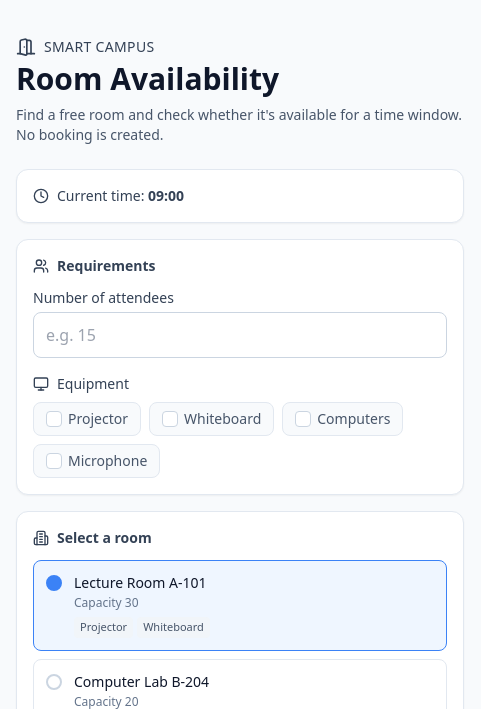
App — integration › selects a room, enters a valid time, and shows Available
The width and height of the screenshot is (481, 709).
Click the text "Computer Lab B-204": (142,681) [74, 672, 209, 690]
(page scrolled)
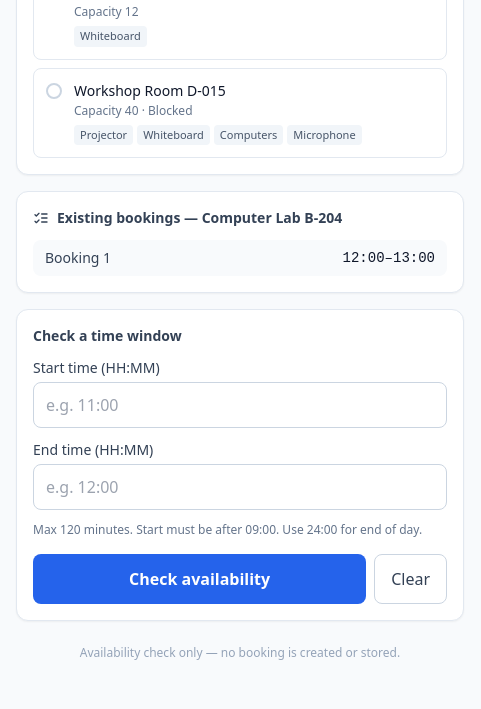
In the field labelled "Start time (HH:MM)": (240,405) [33, 382, 447, 428], type "11:00"
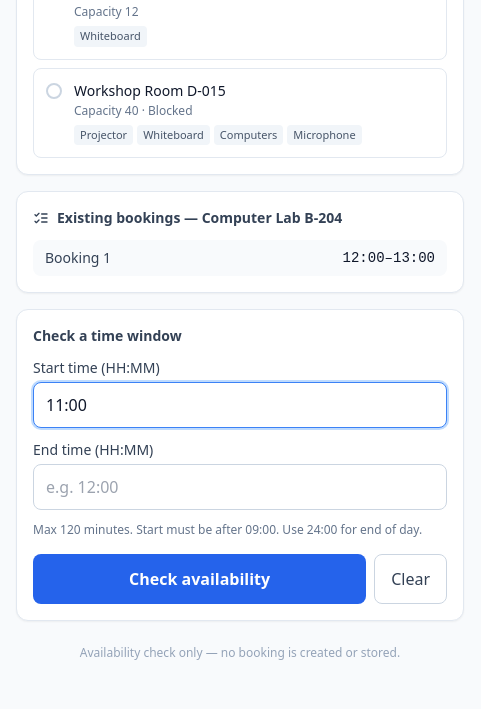
In the field labelled "End time (HH:MM)": (240,487) [33, 464, 447, 510], type "11:30"
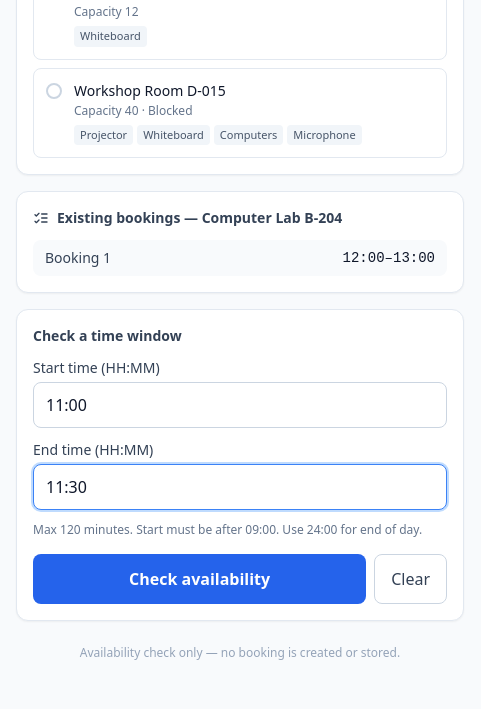
Click the button "Check availability": (200,579) [33, 554, 366, 604]
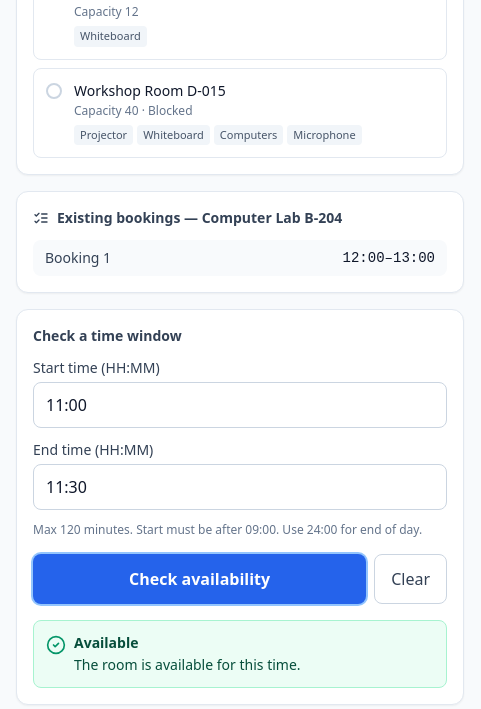
expect the text "Available" is shown: met, box [74, 633, 138, 652]
